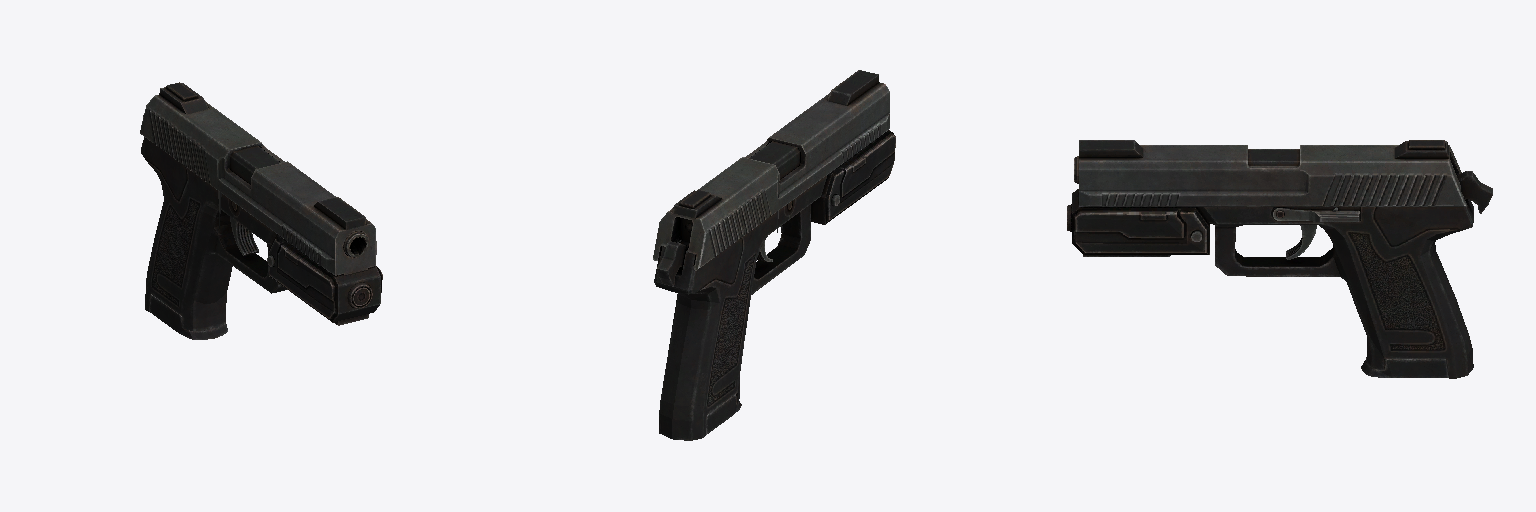
3 renders of one model, left to right at view 1: azimuth 30°, elevation 25°; view 2: azimuth 150°, elevation 25°; view 3: azimuth 270°, elevation 25°, orthographic.
Parts seen in each view (by area): view 1: Pistol; view 2: Pistol; view 3: Pistol.
Part boxes in pixels (x1,y1,x2,y2): Pistol: (140, 82, 382, 339); Pistol: (653, 70, 895, 440); Pistol: (1067, 140, 1492, 378).
Size of the model in its own units: 0.0961 by 0.3665 by 0.6308.
Materials: 1 (1 with a texture image).